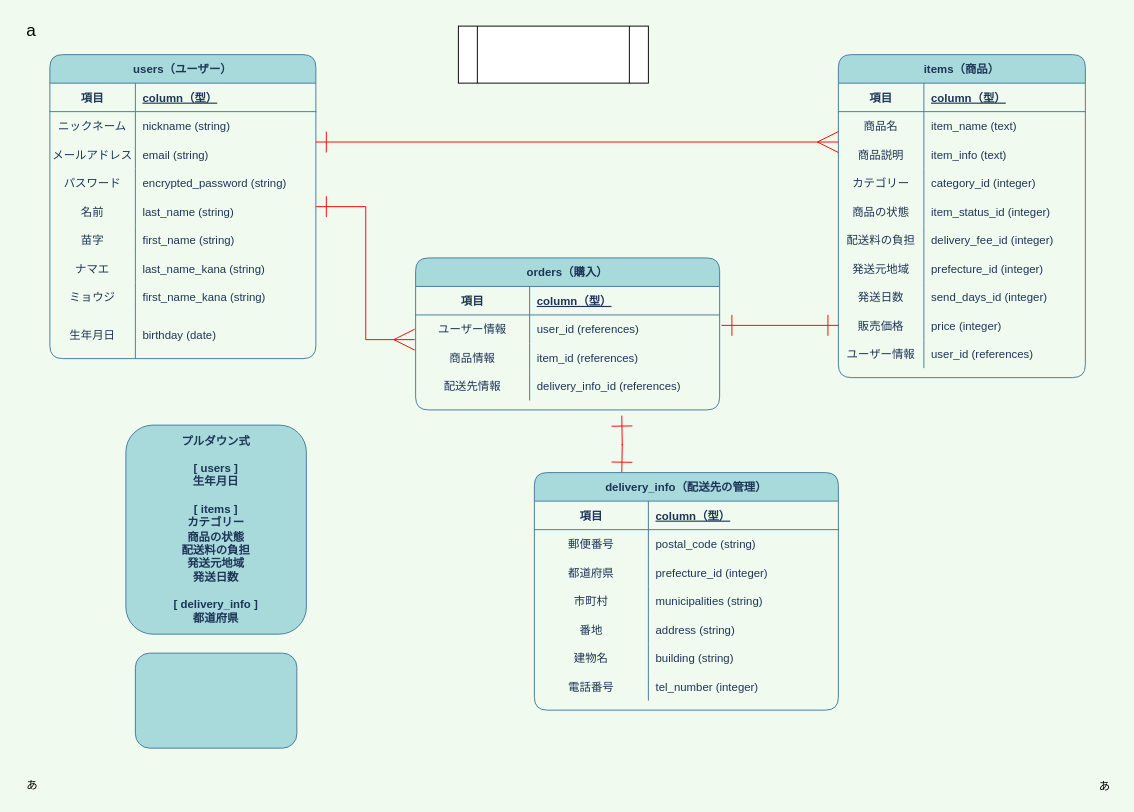
Some shapes in this 1134 by 812 pixel diagram are drawn without their labels. The centre of each missing label's shape, as x and y in pixels:
furima-app ER図: the point at 552,54
全て null: false ※除外 [ delivery_info ] building: the point at 215,700
